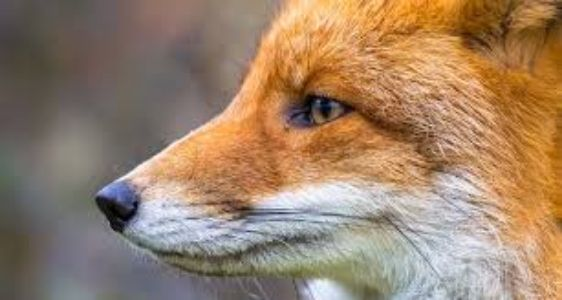fox: (77, 6, 557, 291)
